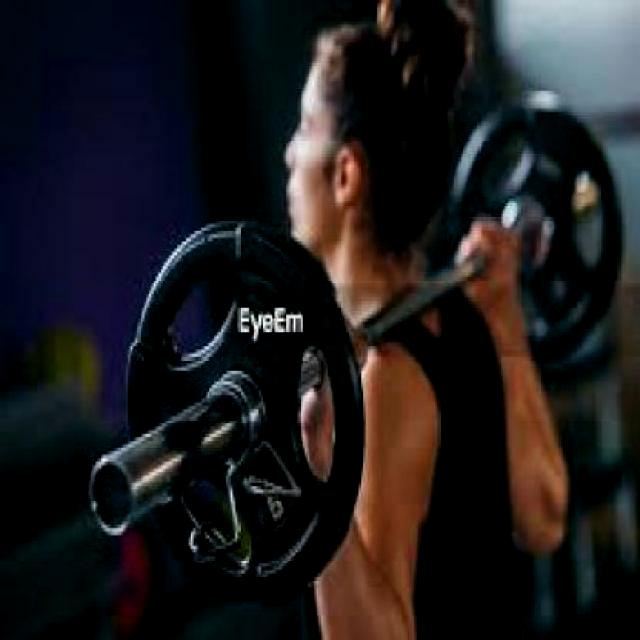barbell: (88, 216, 365, 605)
